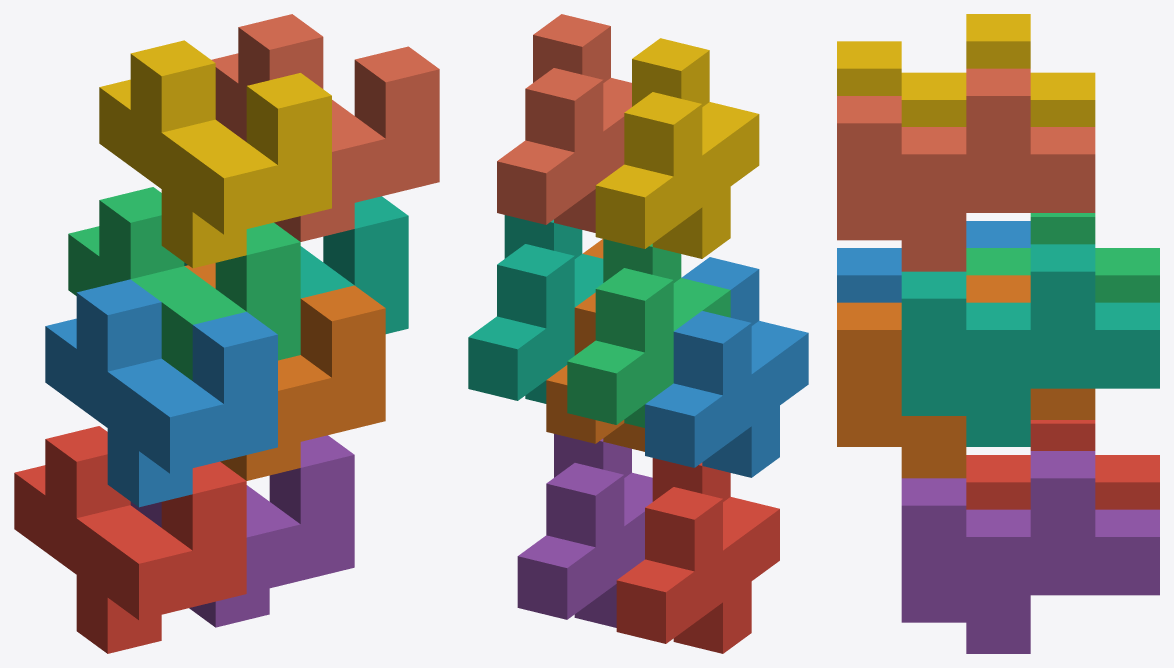
Rendered from tiling.obj.
3 views of the same model, side by side, from view 1: azimuth 30°, elevation 25°; view 2: azimuth 150°, elevation 25°; view 3: azimuth 270°, elevation 25° (orthographic). The views are drawn at different scales.
Parts seen in each view (by area): view 1: copy_1_domain_2, copy_1_domain_4, copy_1_domain_1, copy_1_domain_8, copy_1_domain_3, copy_1_domain_6, copy_1_domain_5, copy_1_domain_7; view 2: copy_1_domain_4, copy_1_domain_2, copy_1_domain_1, copy_1_domain_8, copy_1_domain_5, copy_1_domain_3, copy_1_domain_7, copy_1_domain_6; view 3: copy_1_domain_5, copy_1_domain_7, copy_1_domain_8, copy_1_domain_6, copy_1_domain_4, copy_1_domain_1, copy_1_domain_3, copy_1_domain_2.
Boxes of the visible parts, x1,y1,x2,y2 form: copy_1_domain_2: (45,279,277,507); copy_1_domain_4: (99,40,331,268); copy_1_domain_1: (14,426,246,653); copy_1_domain_8: (211,14,439,241); copy_1_domain_3: (68,187,300,380); copy_1_domain_6: (184,263,385,480); copy_1_domain_5: (130,435,354,627); copy_1_domain_7: (184,196,408,333); copy_1_domain_4: (595,38,759,258); copy_1_domain_2: (645,257,808,477); copy_1_domain_1: (616,458,779,653); copy_1_domain_8: (497,14,631,232); copy_1_domain_5: (517,434,652,627); copy_1_domain_3: (567,239,730,427); copy_1_domain_7: (468,215,603,403); copy_1_domain_6: (546,239,644,451); copy_1_domain_5: (901,451,1159,653); copy_1_domain_7: (901,244,1159,446); copy_1_domain_8: (837,68,1095,271); copy_1_domain_6: (837,275,1095,478); copy_1_domain_4: (837,14,1095,126); copy_1_domain_1: (966,420,1159,509); copy_1_domain_3: (966,213,1159,302); copy_1_domain_2: (837,221,1030,302).
Bounding box in the file's own units: 5 × 10 × 5.
